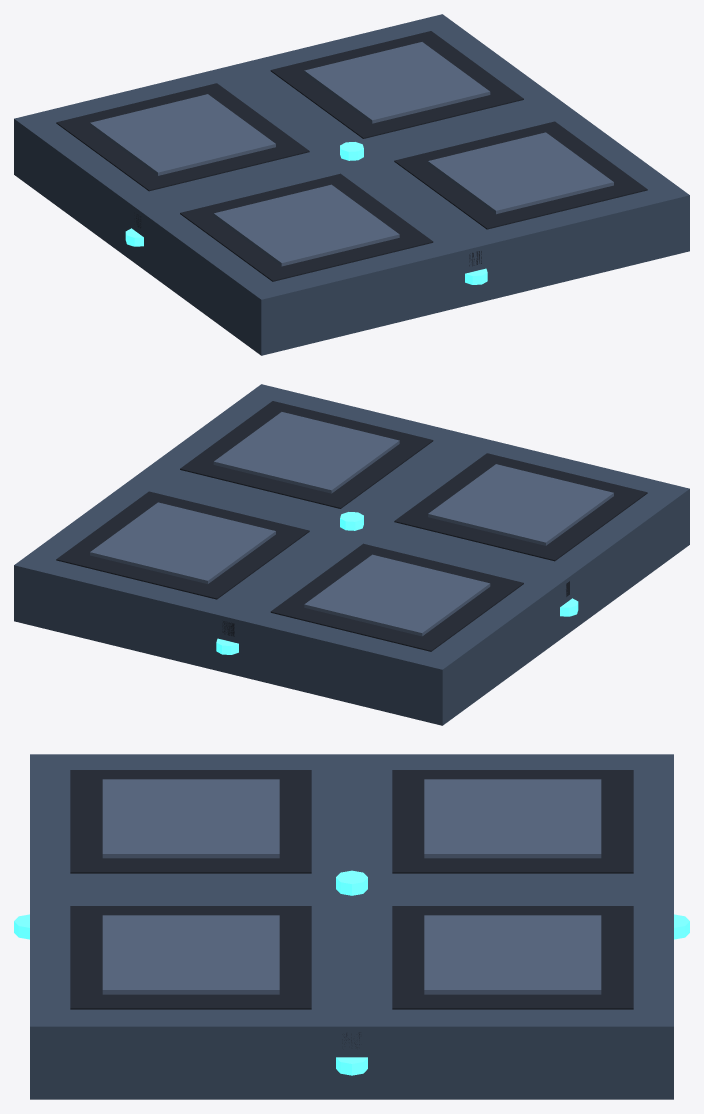
File: mod_suelo_reforzado.fbx
3 views of the same model, one above another, from view 1: azimuth 30°, elevation 25°; view 2: azimuth 150°, elevation 25°; view 3: azimuth 270°, elevation 25° (orthographic). The views are drawn at different scales.
Visible parts, largest first — view 1: Suelo_reforzado, Suelo_reforzado_Conectores; view 2: Suelo_reforzado, Suelo_reforzado_Conectores; view 3: Suelo_reforzado, Suelo_reforzado_Conectores.
Boxes of the visible parts, bbox=[...] form: Suelo_reforzado: bbox=[14, 14, 689, 355]; Suelo_reforzado_Conectores: bbox=[125, 142, 487, 284]; Suelo_reforzado: bbox=[14, 384, 689, 725]; Suelo_reforzado_Conectores: bbox=[216, 512, 578, 654]; Suelo_reforzado: bbox=[30, 754, 673, 1099]; Suelo_reforzado_Conectores: bbox=[14, 870, 689, 1075].
Bounding box in the file's own units: 1.18 × 0.1764 × 1.18.
